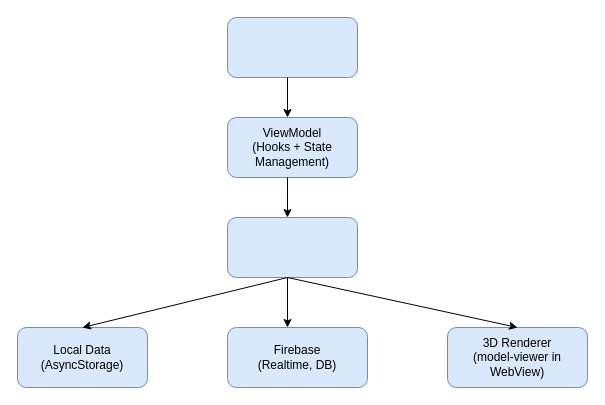
This 605x405 diagram has some shape labels left out. The box of each missing label's shape, as (x1, y1, x2, y2) in pixels:
Model (TypeScript Interface and Data Types): (226, 216, 358, 278)
User Interface (React Native + Expo): (226, 16, 358, 78)
